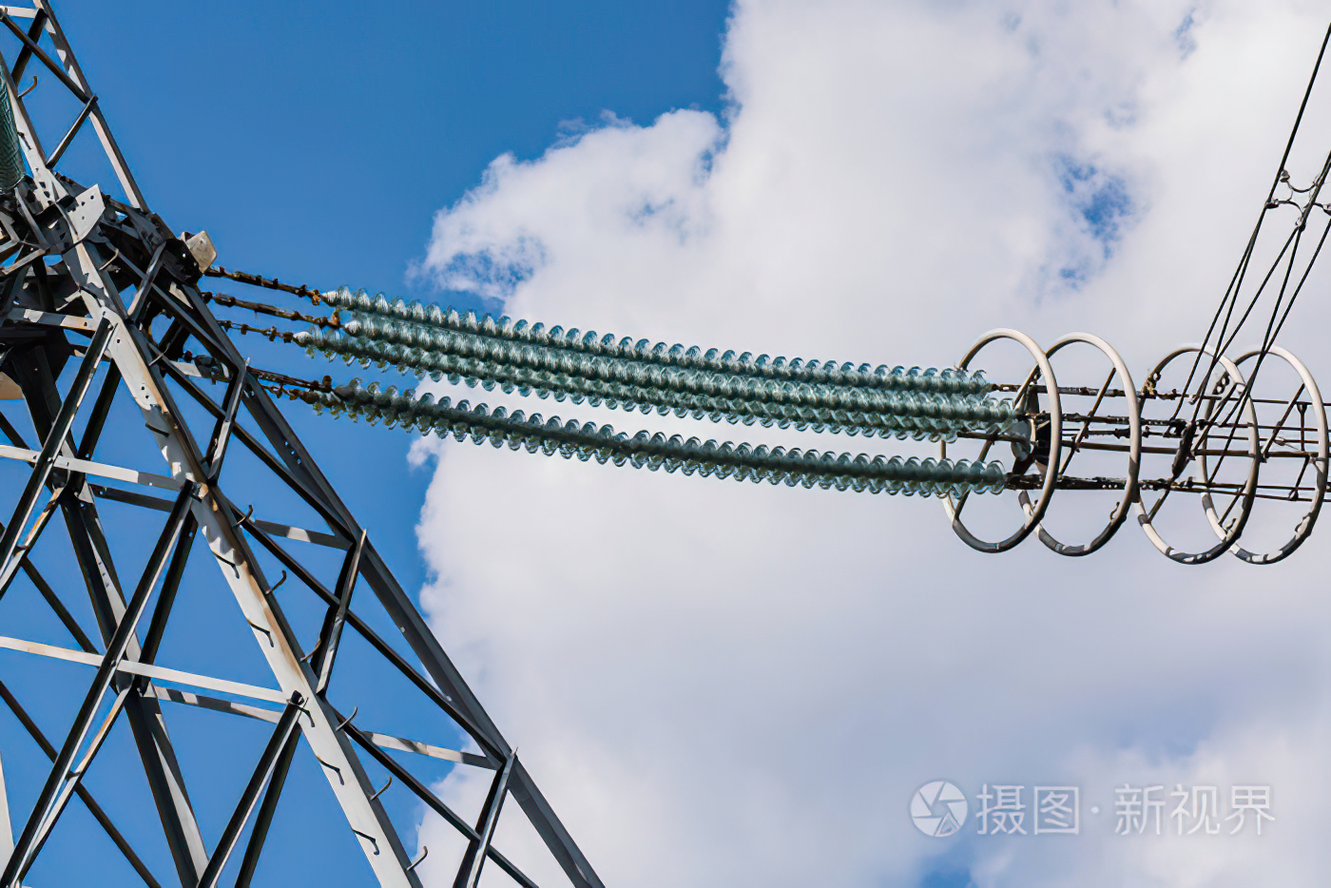insulator: (299, 280, 1020, 444), (303, 382, 1011, 499)
